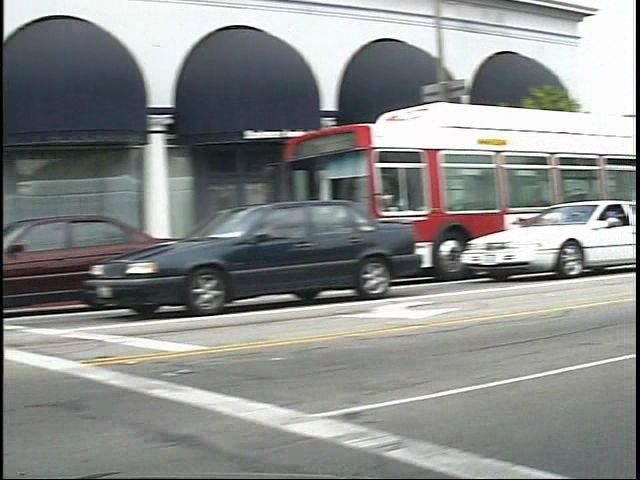car: (56, 201, 420, 308), (426, 202, 629, 276)
